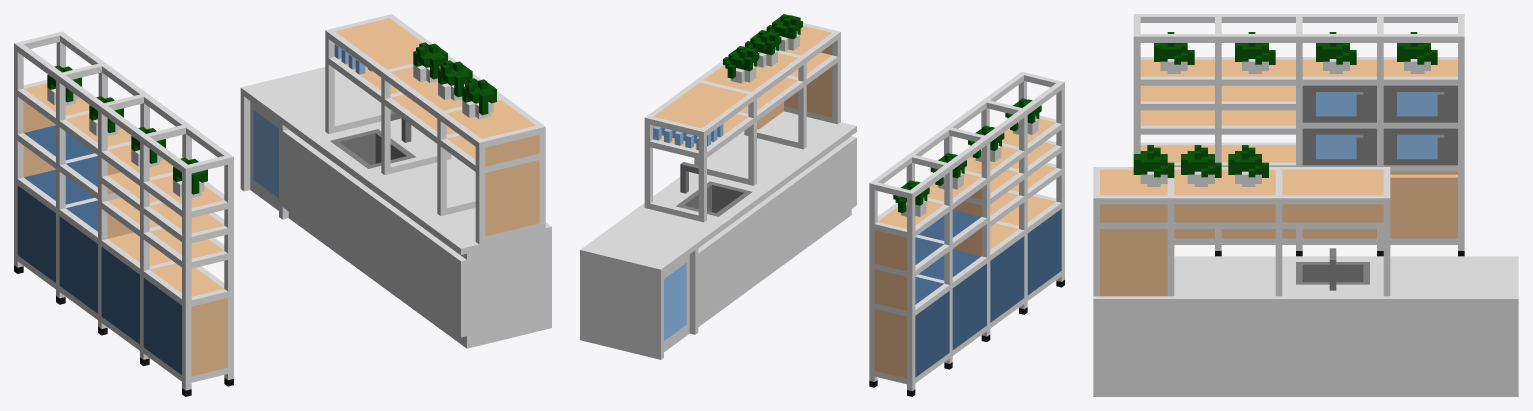
Rendered from dice_2og-13-hot spot.obj.
3 renders of one model, left to right at view 1: azimuth 30°, elevation 25°; view 2: azimuth 150°, elevation 25°; view 3: azimuth 270°, elevation 25°, orthographic. The views are drawn at different scales.
Parts seen in each view (by area): view 1: hot spot; view 2: hot spot; view 3: hot spot.
Part boxes in pixels (box(x1,y1,x2,y2)): hot spot: box(14, 14, 551, 396); hot spot: box(580, 14, 1064, 396); hot spot: box(1093, 14, 1518, 396).
Size of the model in its own units: 5.7 by 3.7 by 6.3.
Materials: 1 (1 with a texture image).
